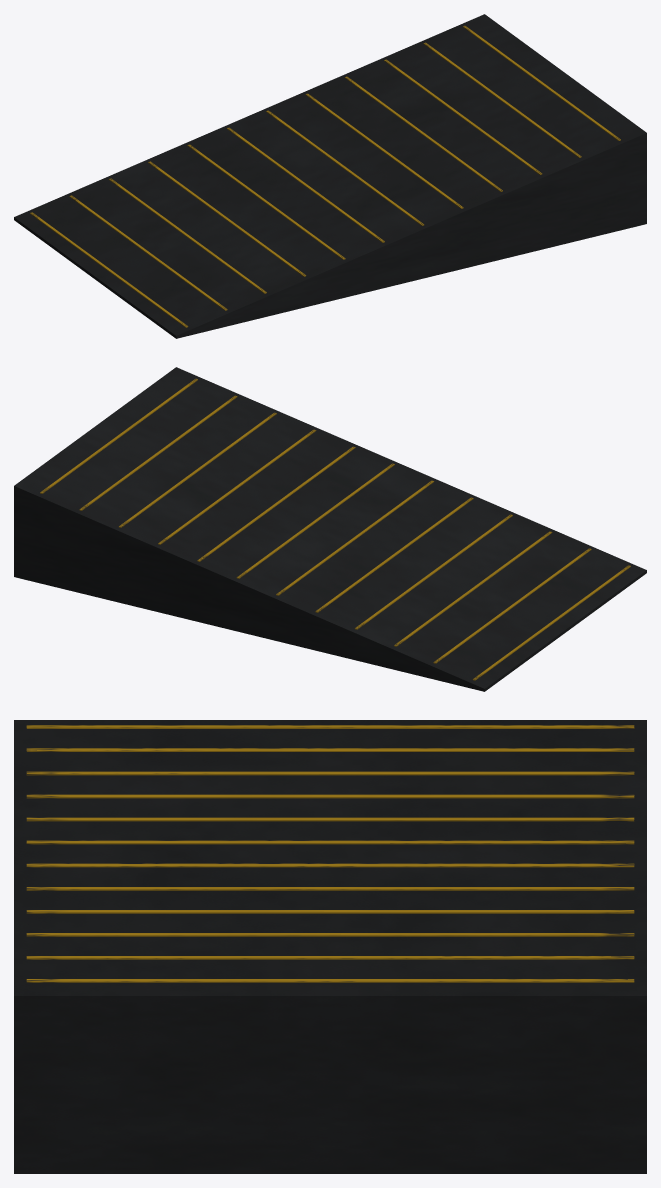
The model's file is RailBoardingRamp.fbx.
3 renders of one model, top to bottom at view 1: azimuth 30°, elevation 25°; view 2: azimuth 150°, elevation 25°; view 3: azimuth 270°, elevation 25°, orthographic. The views are drawn at different scales.
Visible parts, largest first — view 1: RailBoardingRamp.001; view 2: RailBoardingRamp.001; view 3: RailBoardingRamp.001.
Boxes of the visible parts, x1,y1,x2,y2 form: RailBoardingRamp.001: [14, 14, 646, 338]; RailBoardingRamp.001: [14, 367, 646, 691]; RailBoardingRamp.001: [14, 720, 646, 1173].
Size of the model in its own units: 3.35 by 0.62 by 2.
